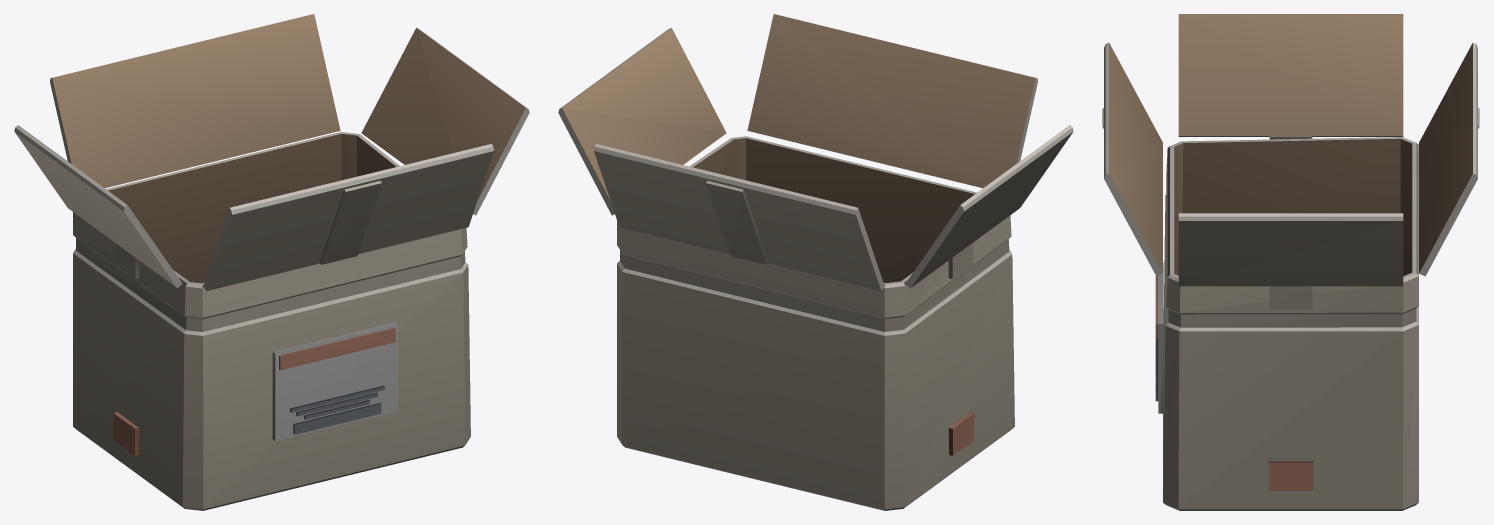
The model's file is carton.glb.
3 renders of one model, left to right at view 1: azimuth 30°, elevation 25°; view 2: azimuth 150°, elevation 25°; view 3: azimuth 270°, elevation 25°, orthographic. The views are drawn at different scales.
Parts seen in each view (by area): view 1: carton; view 2: carton; view 3: carton.
Boxes of the visible parts, x1=… form: carton: x1=14, y1=14, x2=529, y2=510; carton: x1=558, y1=14, x2=1073, y2=510; carton: x1=1102, y1=14, x2=1479, y2=510.
Bounding box in the file's own units: 0.394 × 0.3006 × 0.3093.
